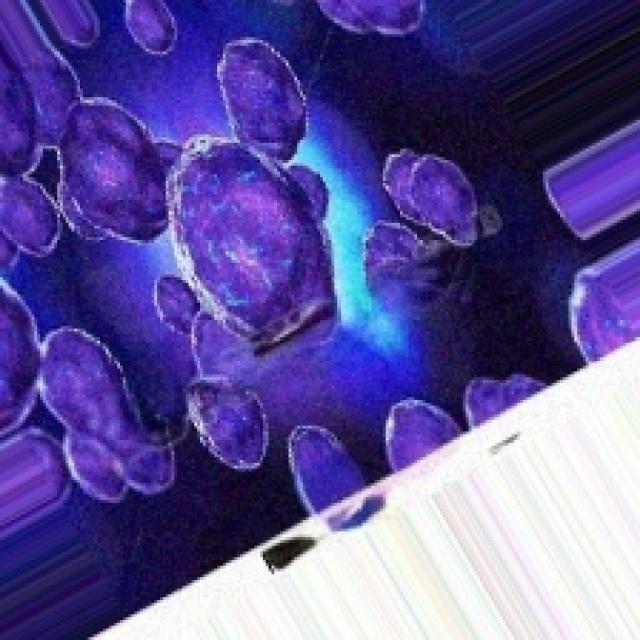Spherical_bacteria: (0, 0, 549, 526)
